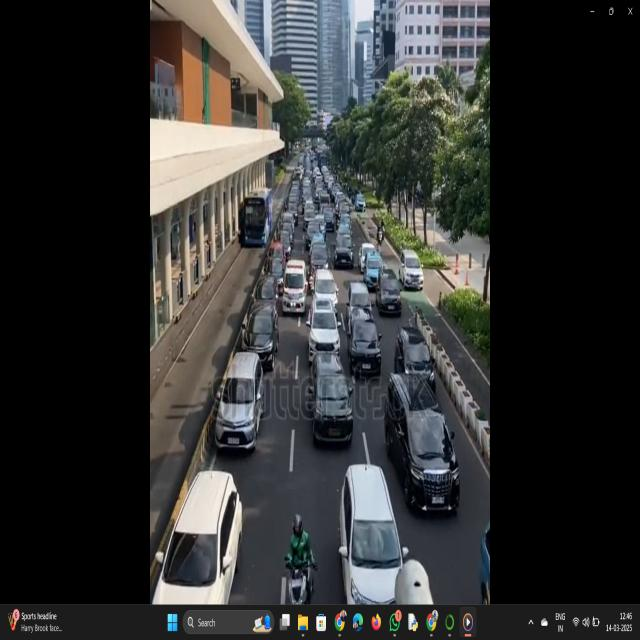Ambulance: (278, 258, 310, 322)
